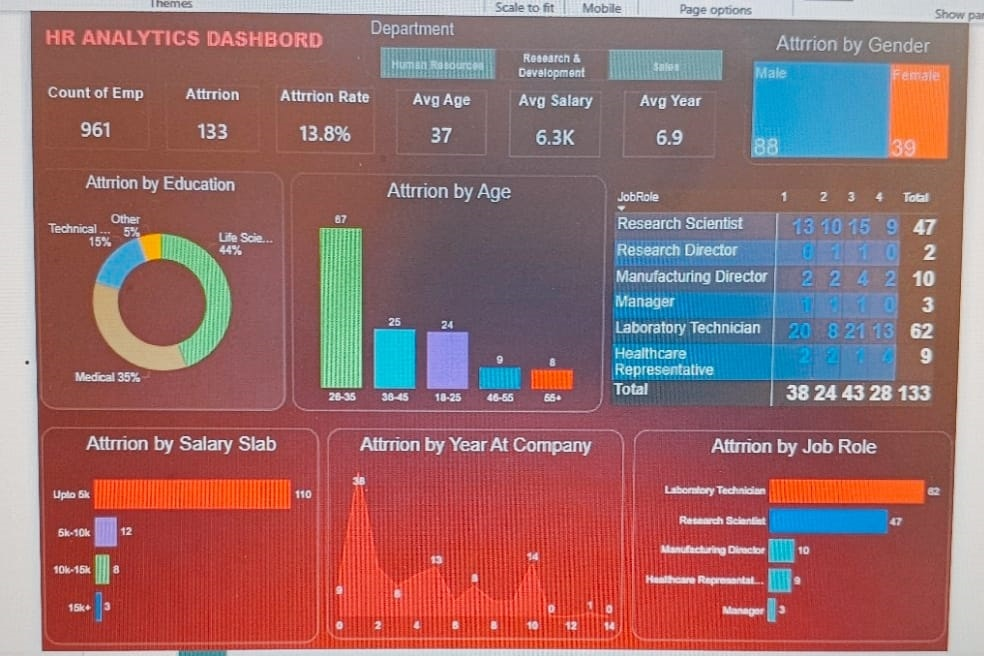

Layout of this report page (visuals, bound fields, positions):
{"tool":"powerbi","page":{"name":"Page 1","canvas":[1900,1300],"ordinal":0},"visuals":[{"type":"cardVisual","title":"Count of Emp","fields":{"Data":["CountNonNull(HR_Analytics.EmpID)"]},"box":[23.9,143.3,211.8,129.4],"z":0},{"type":"cardVisual","title":"Avg Age","fields":{"Data":["Avg(HR_Analytics.Age)"]},"box":[732.8,146.3,183.6,126.9],"z":1000},{"type":"cardVisual","title":"Attrrion","fields":{"Data":["Sum(HR_Analytics.Attrrion count)"]},"box":[268.7,143.3,187.1,129],"z":2000},{"type":"cardVisual","title":"Attrrion Rate","fields":{"Data":["HR_Analytics.Attrrion_Rate"]},"box":[489.6,143.3,198,129.4],"z":3000},{"type":"cardVisual","title":"Avg Salary","fields":{"Data":["Avg(HR_Analytics.MonthlyIncome)"]},"box":[961.2,144.8,187.1,129],"z":4000},{"type":"cardVisual","title":"Avg Year","fields":{"Data":["Avg(HR_Analytics.YearsAtCompany)"]},"box":[1194,146.3,187.1,129],"z":5000},{"type":"donutChart","title":"Attrrion by Education","fields":{"Category":["HR_Analytics.EducationField"],"Y":["Sum(HR_Analytics.Attrrion count)"]},"box":[7.5,313.4,494,485.1],"z":6000},{"type":"columnChart","title":"Attrrion by Age","fields":{"Category":["HR_Analytics.AgeGroup"],"Y":["Sum(HR_Analytics.Attrrion count)"]},"box":[516.4,313.4,646.3,485.1],"z":7000},{"type":"pivotTable","fields":{"Rows":["HR_Analytics.JobRole"],"Columns":["HR_Analytics.JobSatisfaction"],"Values":["Sum(HR_Analytics.Attrrion count)"]},"box":[1177.6,335.8,723.9,476.1],"z":8000},{"type":"barChart","title":"Attrrion by Salary Slab","fields":{"Category":["HR_Analytics.SalarySlab"],"Y":["Sum(HR_Analytics.Attrrion count)"]},"box":[7.2,833.2,563.3,451],"z":9000},{"type":"barChart","title":"Attrrion by Job Role","fields":{"Y":["Sum(HR_Analytics.Attrrion count)"],"Category":["HR_Analytics.JobRole"]},"box":[1231.6,833.2,661.1,443.8],"z":10000},{"type":"areaChart","title":"Attrrion by Year At Company","fields":{"Category":["HR_Analytics.YearsAtCompany"],"Y":["Sum(HR_Analytics.Attrrion count)"]},"box":[588.7,833.2,621.3,443.8],"z":11000},{"type":"treemap","title":"Attrrion by Gender","fields":{"Group":["HR_Analytics.Gender"],"Values":["Sum(HR_Analytics.Attrrion count)"]},"box":[1440.3,16.4,437.3,276.1],"z":12000},{"type":"slicer","title":"Department","fields":{"Values":["HR_Analytics.Department"]},"box":[664.2,0,761.2,123.9],"z":13000},{"type":"textbox","box":[8,11.5,597.7,85.1],"z":14000}]}

Visuals, with their boxes on the page's 1900x1300 design canvas (x1, y1, x2, y2). These are canvas units, not pixel positions in the 984x656 screenshot, which may show the page scaled, cropped or inside an application window:
"Count of Emp" cardVisual: 24,143,236,273
"Avg Age" cardVisual: 733,146,916,273
"Attrrion" cardVisual: 269,143,456,272
"Attrrion Rate" cardVisual: 490,143,688,273
"Avg Salary" cardVisual: 961,145,1148,274
"Avg Year" cardVisual: 1194,146,1381,275
"Attrrion by Education" donutChart: 8,313,502,798
"Attrrion by Age" columnChart: 516,313,1163,798
pivotTable - HR_Analytics.JobRole x HR_Analytics.JobSatisfaction: 1178,336,1902,812
"Attrrion by Salary Slab" barChart: 7,833,570,1284
"Attrrion by Job Role" barChart: 1232,833,1893,1277
"Attrrion by Year At Company" areaChart: 589,833,1210,1277
"Attrrion by Gender" treemap: 1440,16,1878,292
"Department" slicer: 664,0,1425,124
textbox: 8,12,606,97
